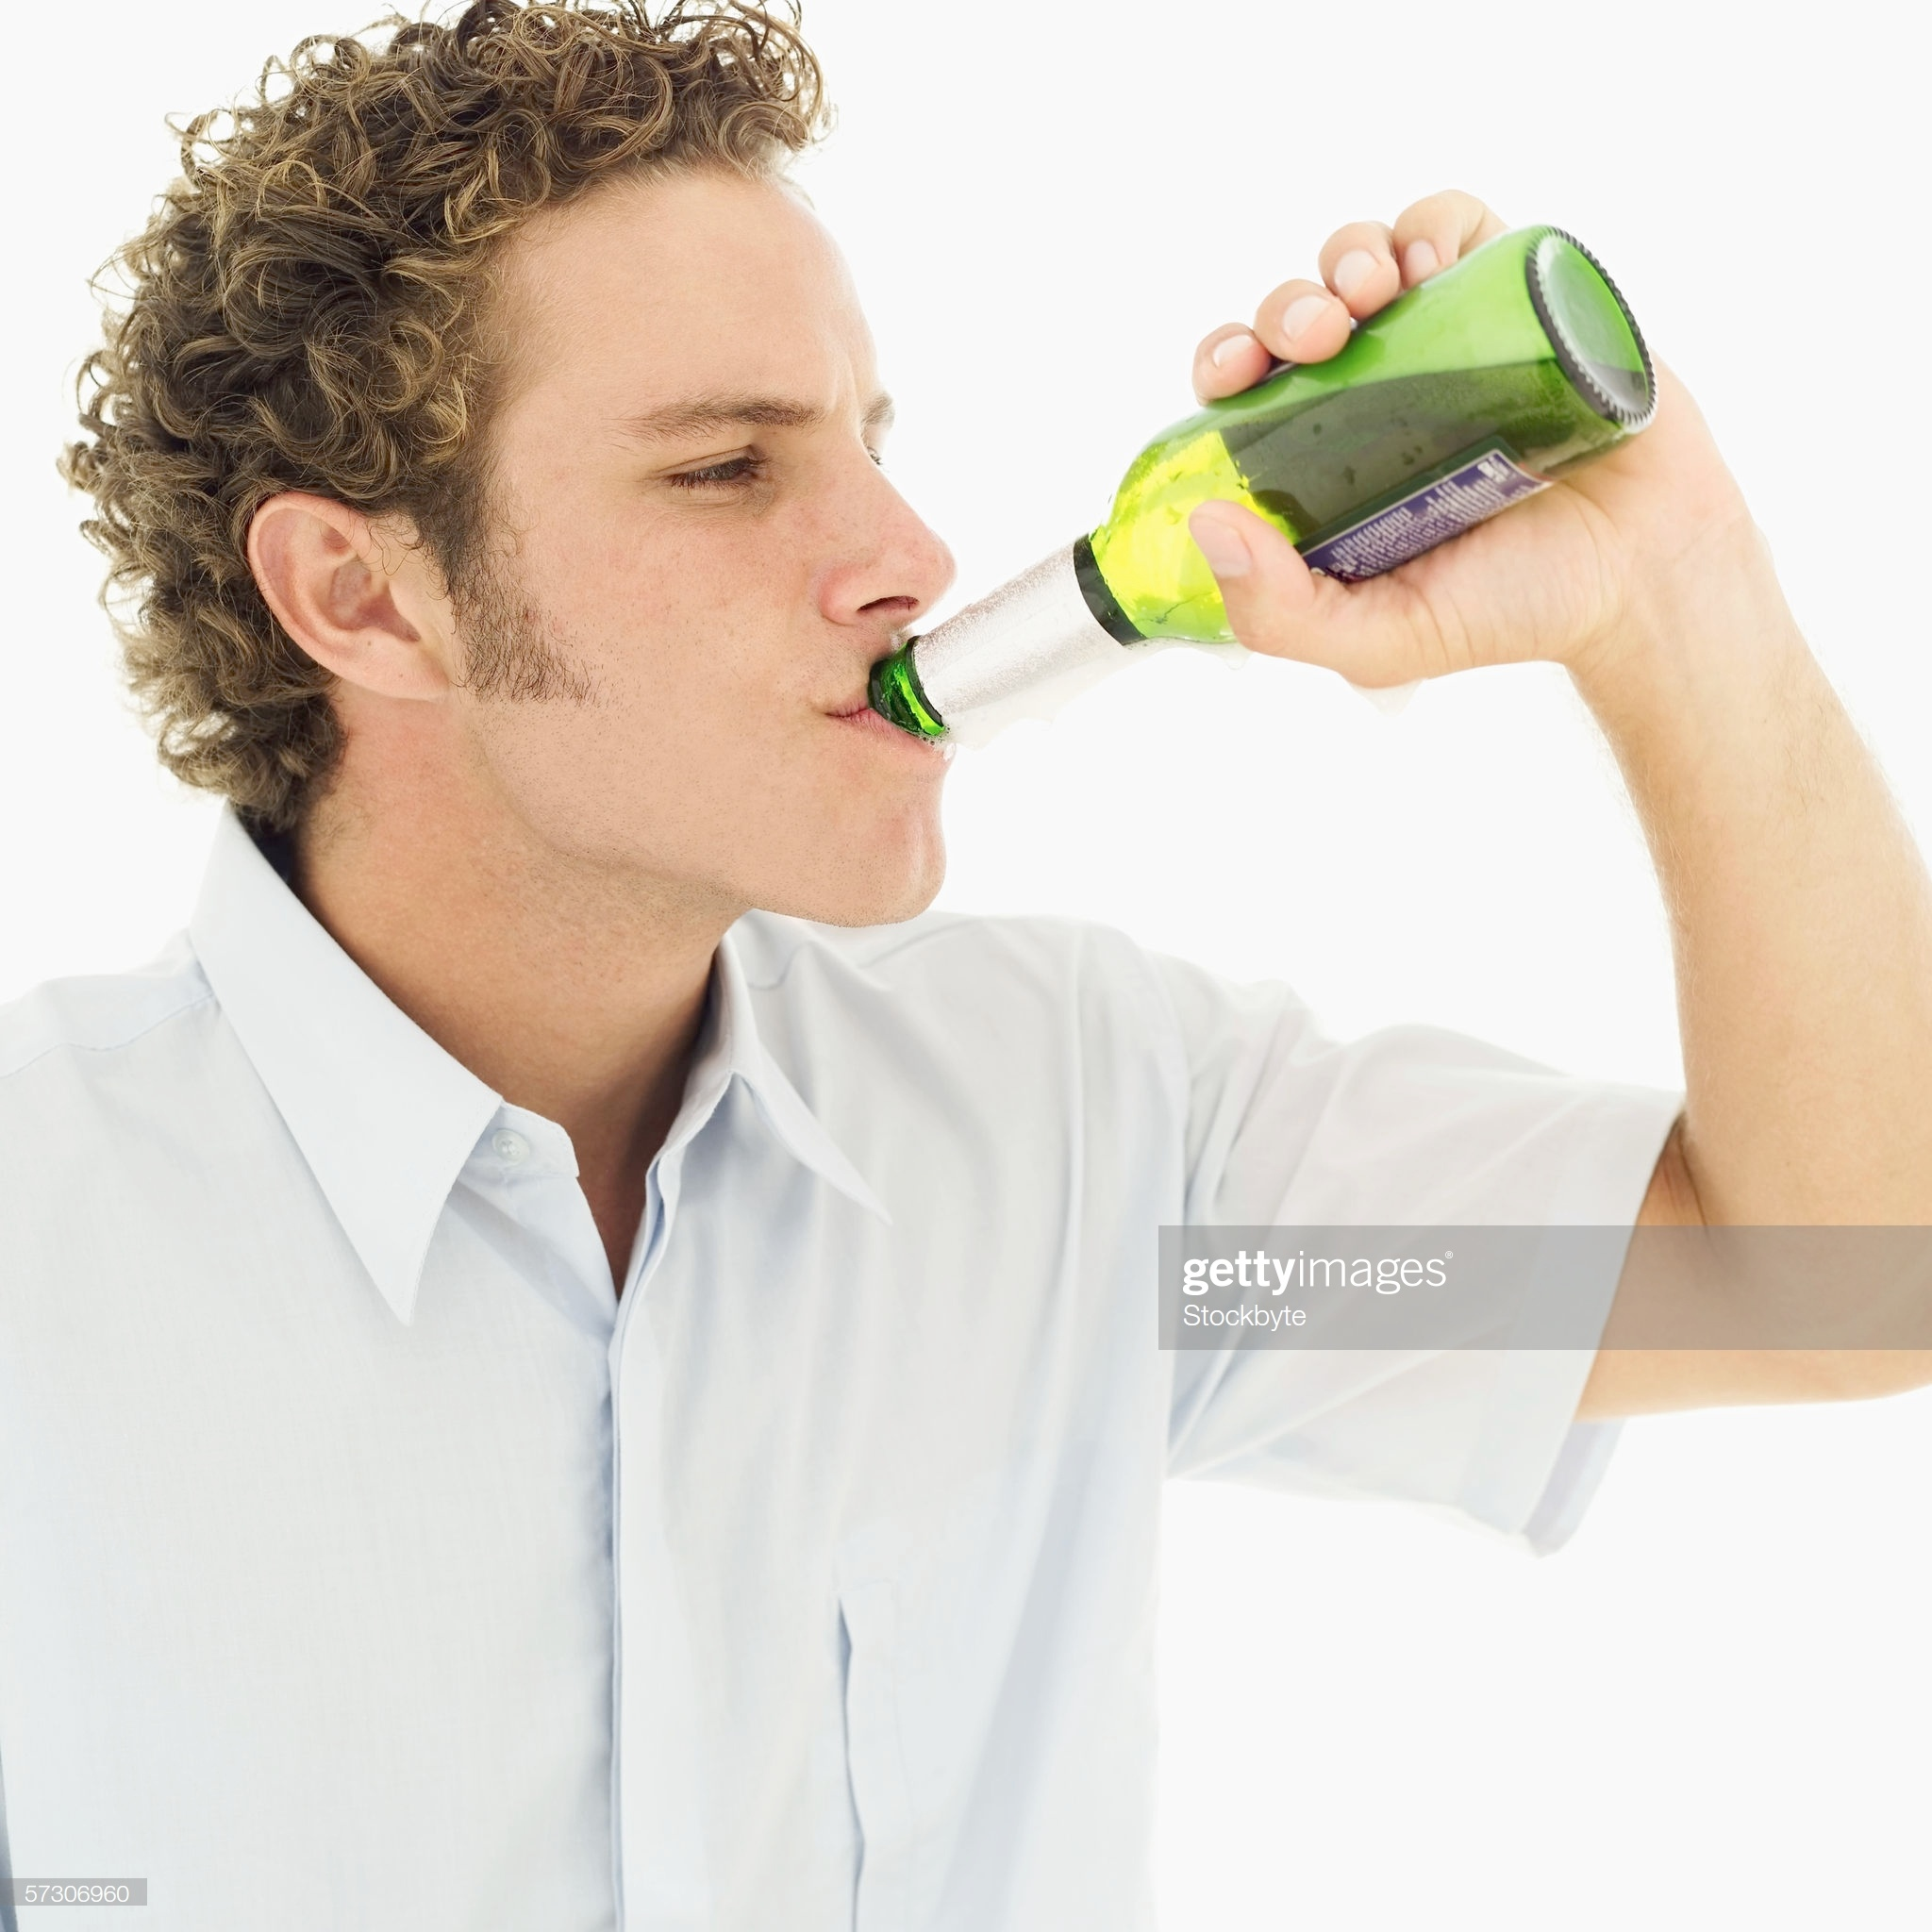beerBottle: (840, 232, 1663, 741)
